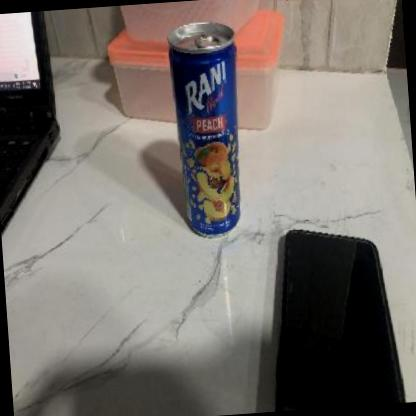alumunium_can: (166, 20, 250, 242)
